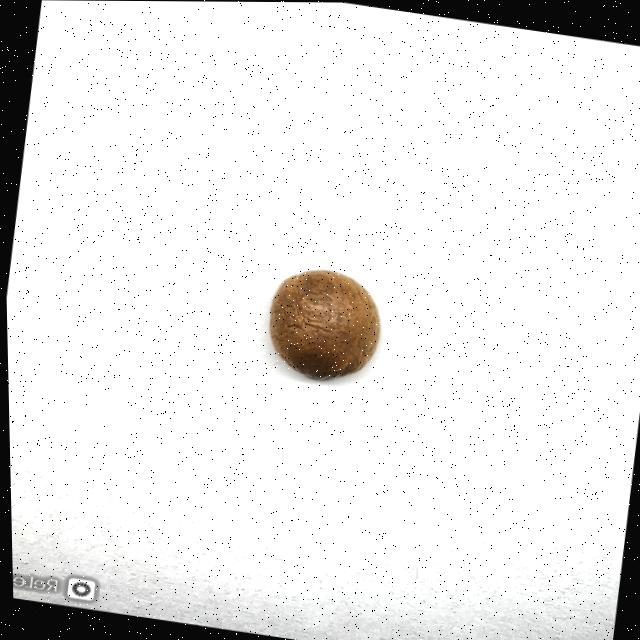Good bean: (261, 261, 387, 388)
